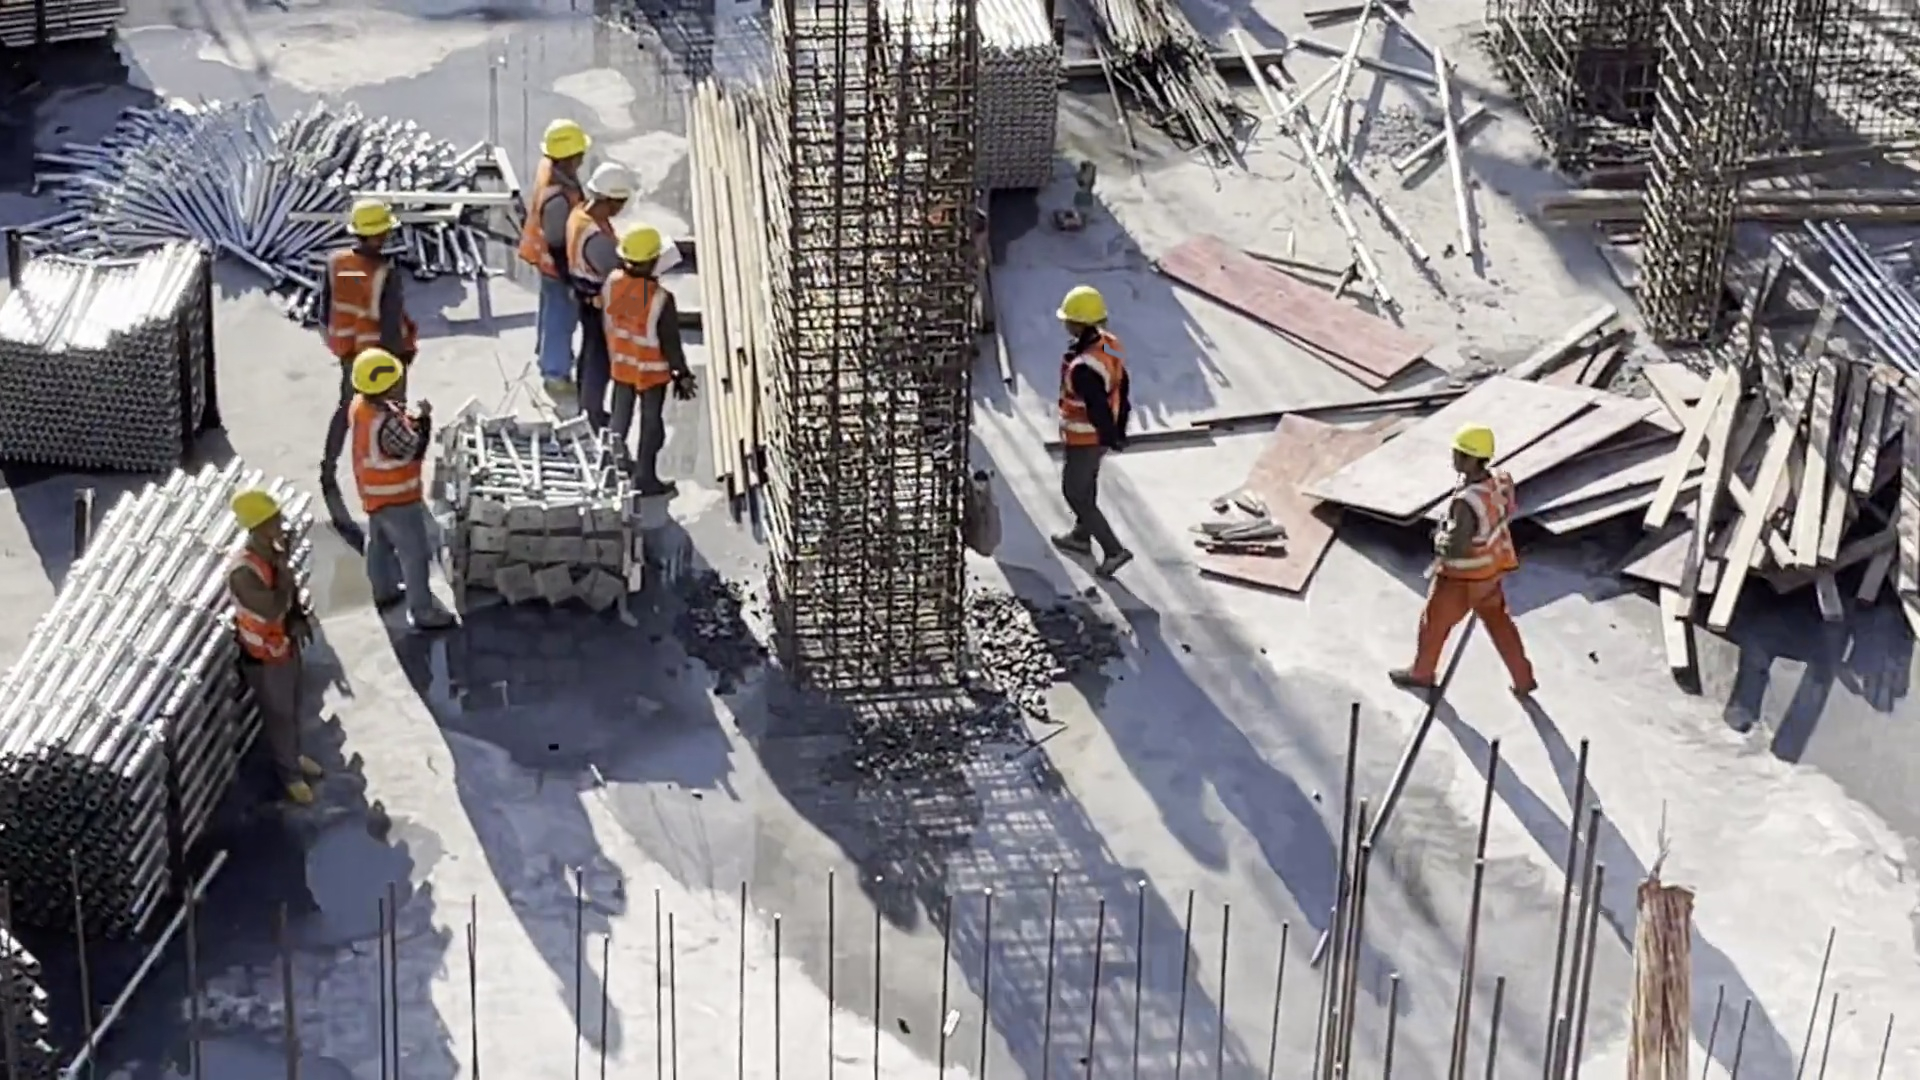helmet: (1074, 276, 1153, 337), (589, 151, 656, 224), (364, 197, 429, 262), (353, 342, 414, 392), (541, 126, 593, 174), (243, 487, 288, 541), (1468, 429, 1504, 481), (628, 224, 664, 264)
person: (316, 351, 446, 606), (224, 490, 326, 761), (1054, 283, 1139, 556), (1419, 435, 1501, 665), (321, 195, 398, 333), (538, 128, 579, 363), (614, 236, 651, 446), (583, 175, 619, 328)
vest: (319, 354, 418, 507), (241, 551, 313, 682), (1456, 484, 1514, 582), (618, 307, 681, 392), (331, 259, 396, 334), (1081, 372, 1116, 459), (566, 221, 599, 302), (524, 194, 553, 266)
